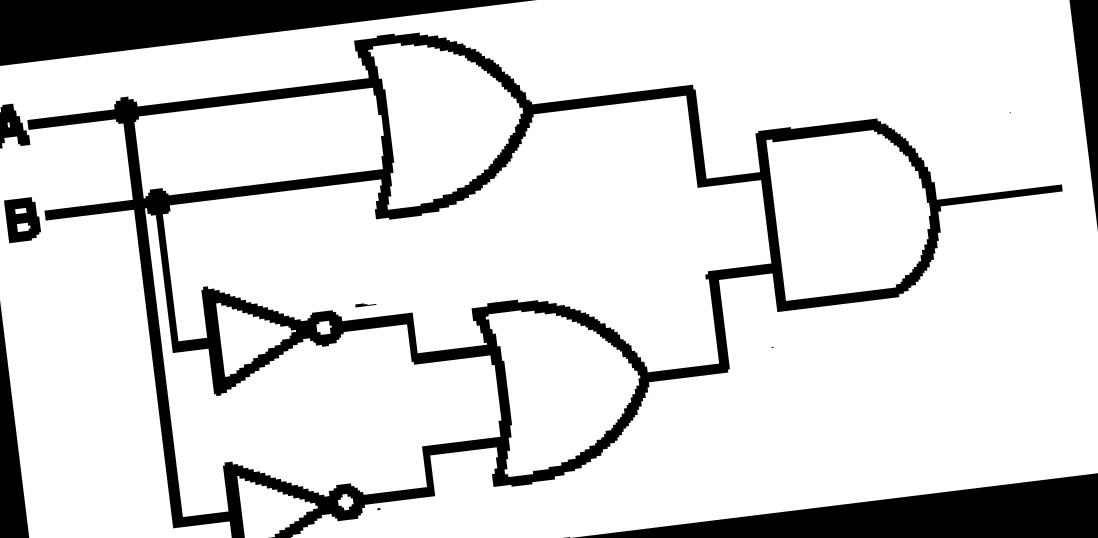and: (726, 80, 1002, 375)
not: (181, 258, 383, 406), (197, 435, 395, 538)
or: (301, 0, 578, 242), (447, 270, 709, 522)
